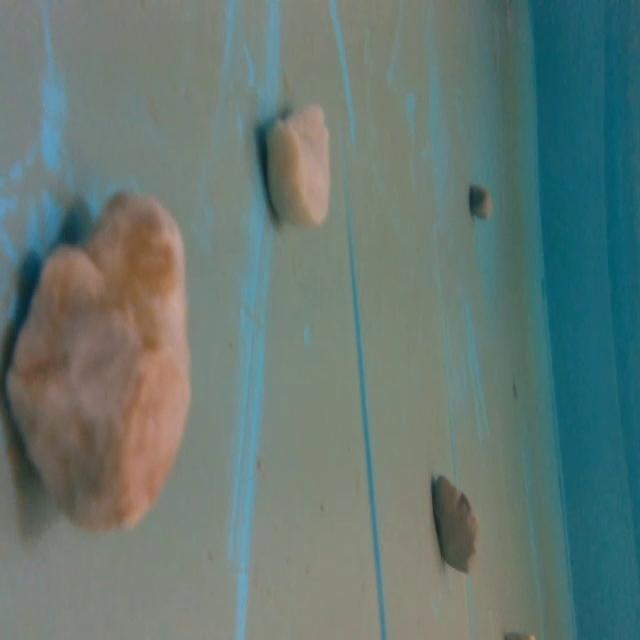rock: (0, 186, 193, 545), (260, 99, 337, 237), (423, 464, 486, 579), (464, 178, 496, 231)
